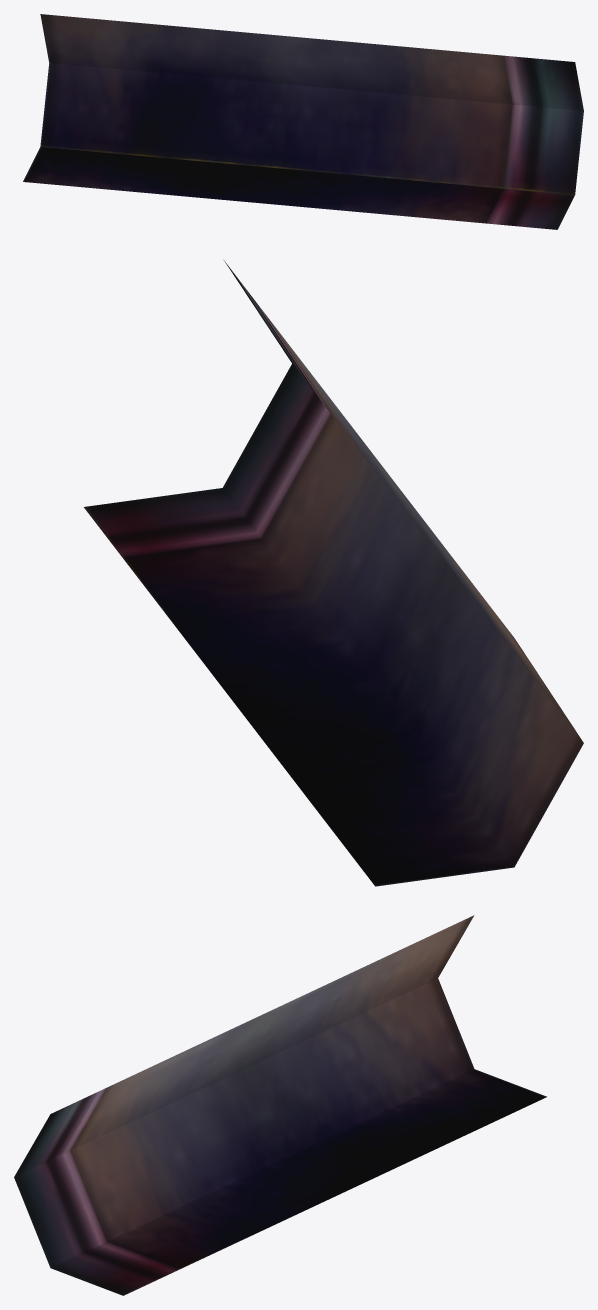
3 views of the same model, one above another, from view 1: azimuth 30°, elevation 25°; view 2: azimuth 150°, elevation 25°; view 3: azimuth 270°, elevation 25° (orthographic). The views are drawn at different scales.
Parts seen in each view (by area): view 1: Cylinder10; view 2: Cylinder10; view 3: Cylinder10.
Boxes of the visible parts, left/top/right/bottom form: Cylinder10: left=23, top=14, right=583, bottom=229; Cylinder10: left=84, top=260, right=583, bottom=886; Cylinder10: left=14, top=915, right=546, bottom=1295.
Size of the model in its own units: 539 by 152 by 510.
1 material, 1 textured.
